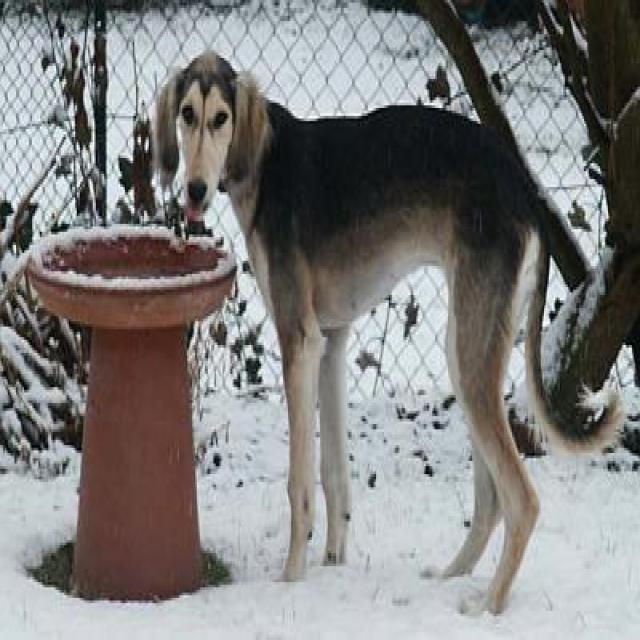saluki: (146, 42, 634, 630)
